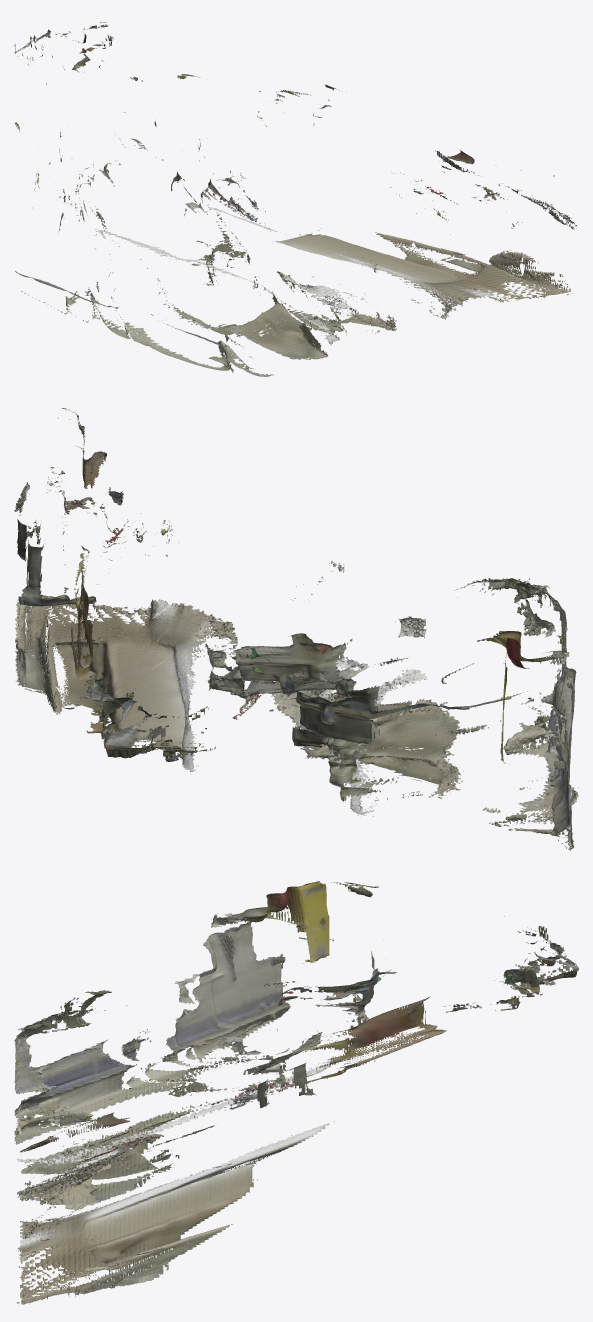
The model's file is room-0.glb.
3 views of the same model, one above another, from view 1: azimuth 30°, elevation 25°; view 2: azimuth 150°, elevation 25°; view 3: azimuth 270°, elevation 25° (orthographic). The views are drawn at different scales.
Parts seen in each view (by area): view 1: geometry_0; view 2: geometry_0; view 3: geometry_0.
Boxes of the visible parts, left/top/right/bottom form: geometry_0: left=14, top=22, right=576, bottom=376; geometry_0: left=14, top=408, right=578, bottom=850; geometry_0: left=14, top=881, right=578, bottom=1305.
Bounding box in the file's own units: 13.69 × 5.31 × 12.77.
